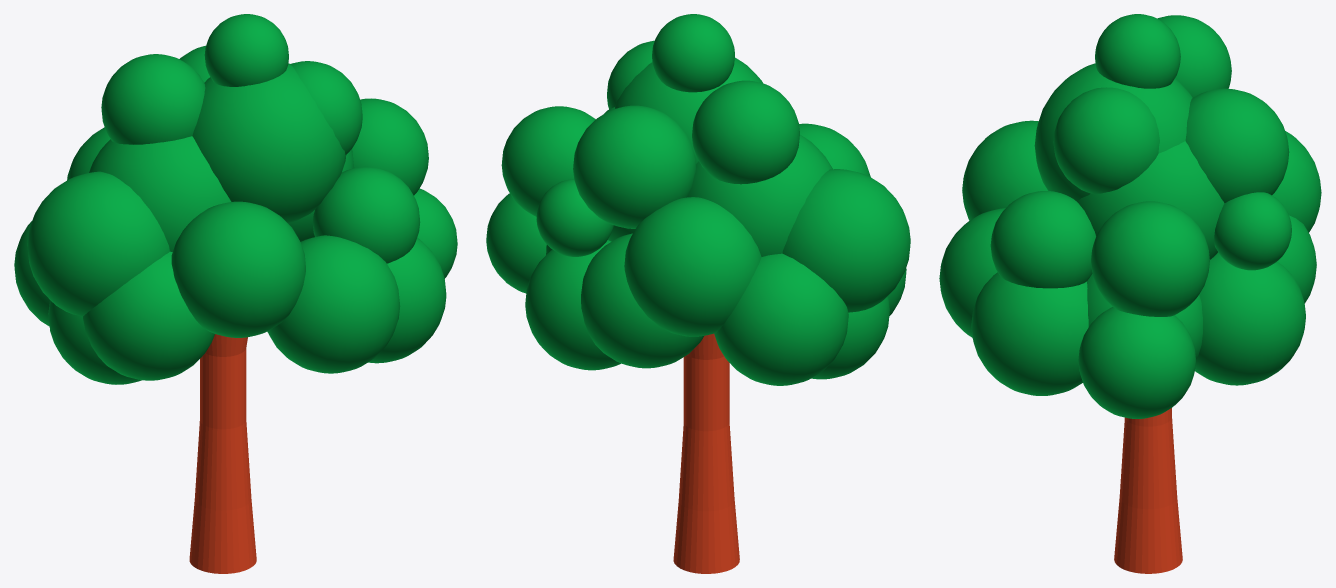
Rendered from tree.glb.
The picture shows the model from 3 angles, left to right: view 1: azimuth 30°, elevation 25°; view 2: azimuth 150°, elevation 25°; view 3: azimuth 270°, elevation 25°; orthographic projection. The views are drawn at different scales.
Visible parts, largest first — view 1: Sphere.004, Sphere.012, Sphere.015, Sphere.022, Cylinder.001, Sphere.020, Sphere.003, Sphere.005, Sphere.010, Sphere.014, Sphere.018, Sphere.006 (+6 smaller); view 2: Sphere.011, Sphere.015, Sphere.021, Cylinder.001, Sphere.008, Sphere.005, Sphere.019, Sphere.003, Sphere.009, Sphere.006, Sphere.014, Sphere.023 (+5 smaller); view 3: Sphere.018, Sphere.009, Sphere.006, Sphere.013, Cylinder.001, Sphere.008, Sphere.007, Sphere.010, Sphere.002, Sphere.004, Sphere.012, Sphere.014 (+6 smaller).
Part boxes in pixels (x1,y1,x2,y2): Sphere.004: [192, 63, 346, 223]; Sphere.012: [171, 201, 305, 337]; Sphere.015: [27, 171, 169, 316]; Sphere.022: [267, 235, 400, 373]; Cylinder.001: [189, 334, 256, 573]; Sphere.020: [83, 251, 214, 380]; Sphere.003: [89, 136, 231, 251]; Sphere.005: [101, 54, 205, 144]; Sphere.010: [312, 166, 420, 263]; Sphere.014: [204, 14, 288, 86]; Sphere.018: [368, 237, 446, 363]; Sphere.006: [352, 98, 428, 195]; Sphere.011: [624, 197, 761, 336]; Sphere.015: [782, 169, 910, 312]; Sphere.021: [714, 253, 848, 385]; Cylinder.001: [673, 333, 739, 573]; Sphere.008: [573, 105, 695, 228]; Sphere.005: [692, 80, 799, 184]; Sphere.019: [581, 233, 703, 368]; Sphere.003: [687, 135, 832, 256]; Sphere.009: [525, 240, 620, 370]; Sphere.006: [501, 106, 595, 216]; Sphere.014: [652, 14, 734, 92]; Sphere.023: [536, 179, 613, 256]; Sphere.018: [971, 272, 1088, 395]; Sphere.009: [1195, 252, 1305, 385]; Sphere.006: [1091, 201, 1209, 316]; Sphere.013: [1078, 307, 1195, 418]; Cylinder.001: [1114, 408, 1182, 573]; Sphere.008: [1185, 88, 1289, 203]; Sphere.007: [1053, 87, 1159, 193]; Sphere.010: [990, 191, 1095, 288]; Sphere.002: [1077, 141, 1224, 259]; Sphere.004: [1034, 63, 1192, 201]; Sphere.012: [962, 120, 1047, 220]; Sphere.014: [1095, 14, 1180, 88].
Size of the model in its own units: 0.7191 by 0.9009 by 0.5665.
